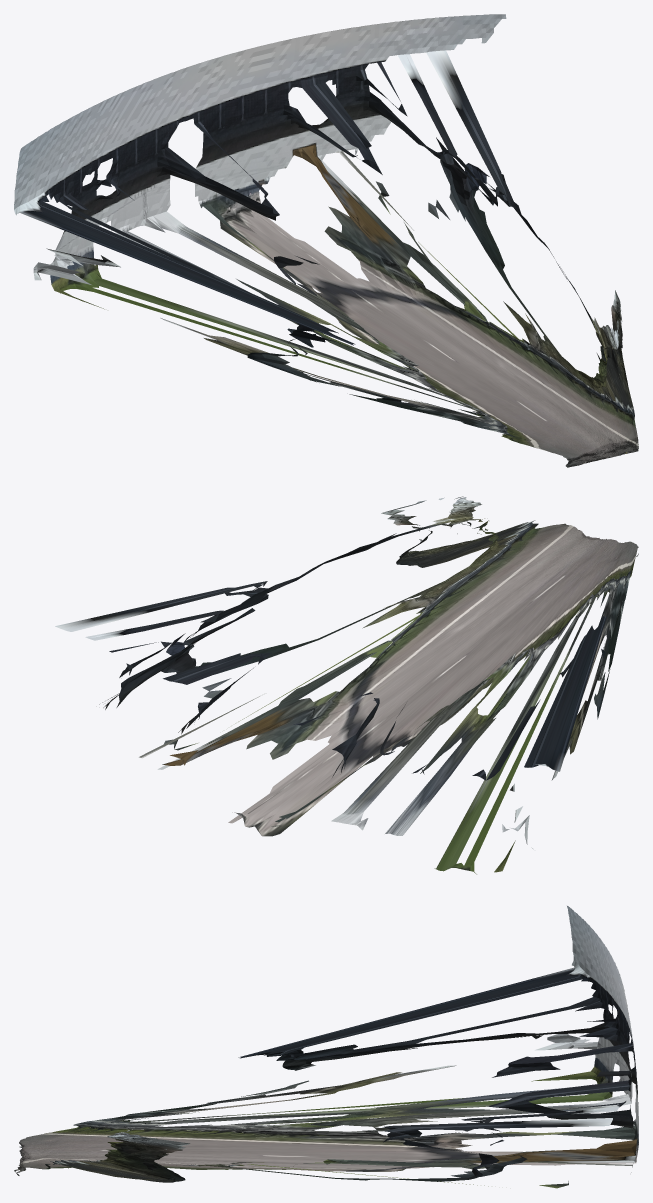
3 renders of one model, top to bottom at view 1: azimuth 30°, elevation 25°; view 2: azimuth 150°, elevation 25°; view 3: azimuth 270°, elevation 25°, orthographic. The views are drawn at different scales.
Parts seen in each view (by area): view 1: defaultobject; view 2: defaultobject; view 3: defaultobject.
Part boxes in pixels (<box>): defaultobject: <box>14,14,638,467</box>; defaultobject: <box>55,496,638,874</box>; defaultobject: <box>14,906,638,1188</box>.
Size of the model in its own units: 36.73 by 12.69 by 44.55.
Materials: 1 (1 with a texture image).
